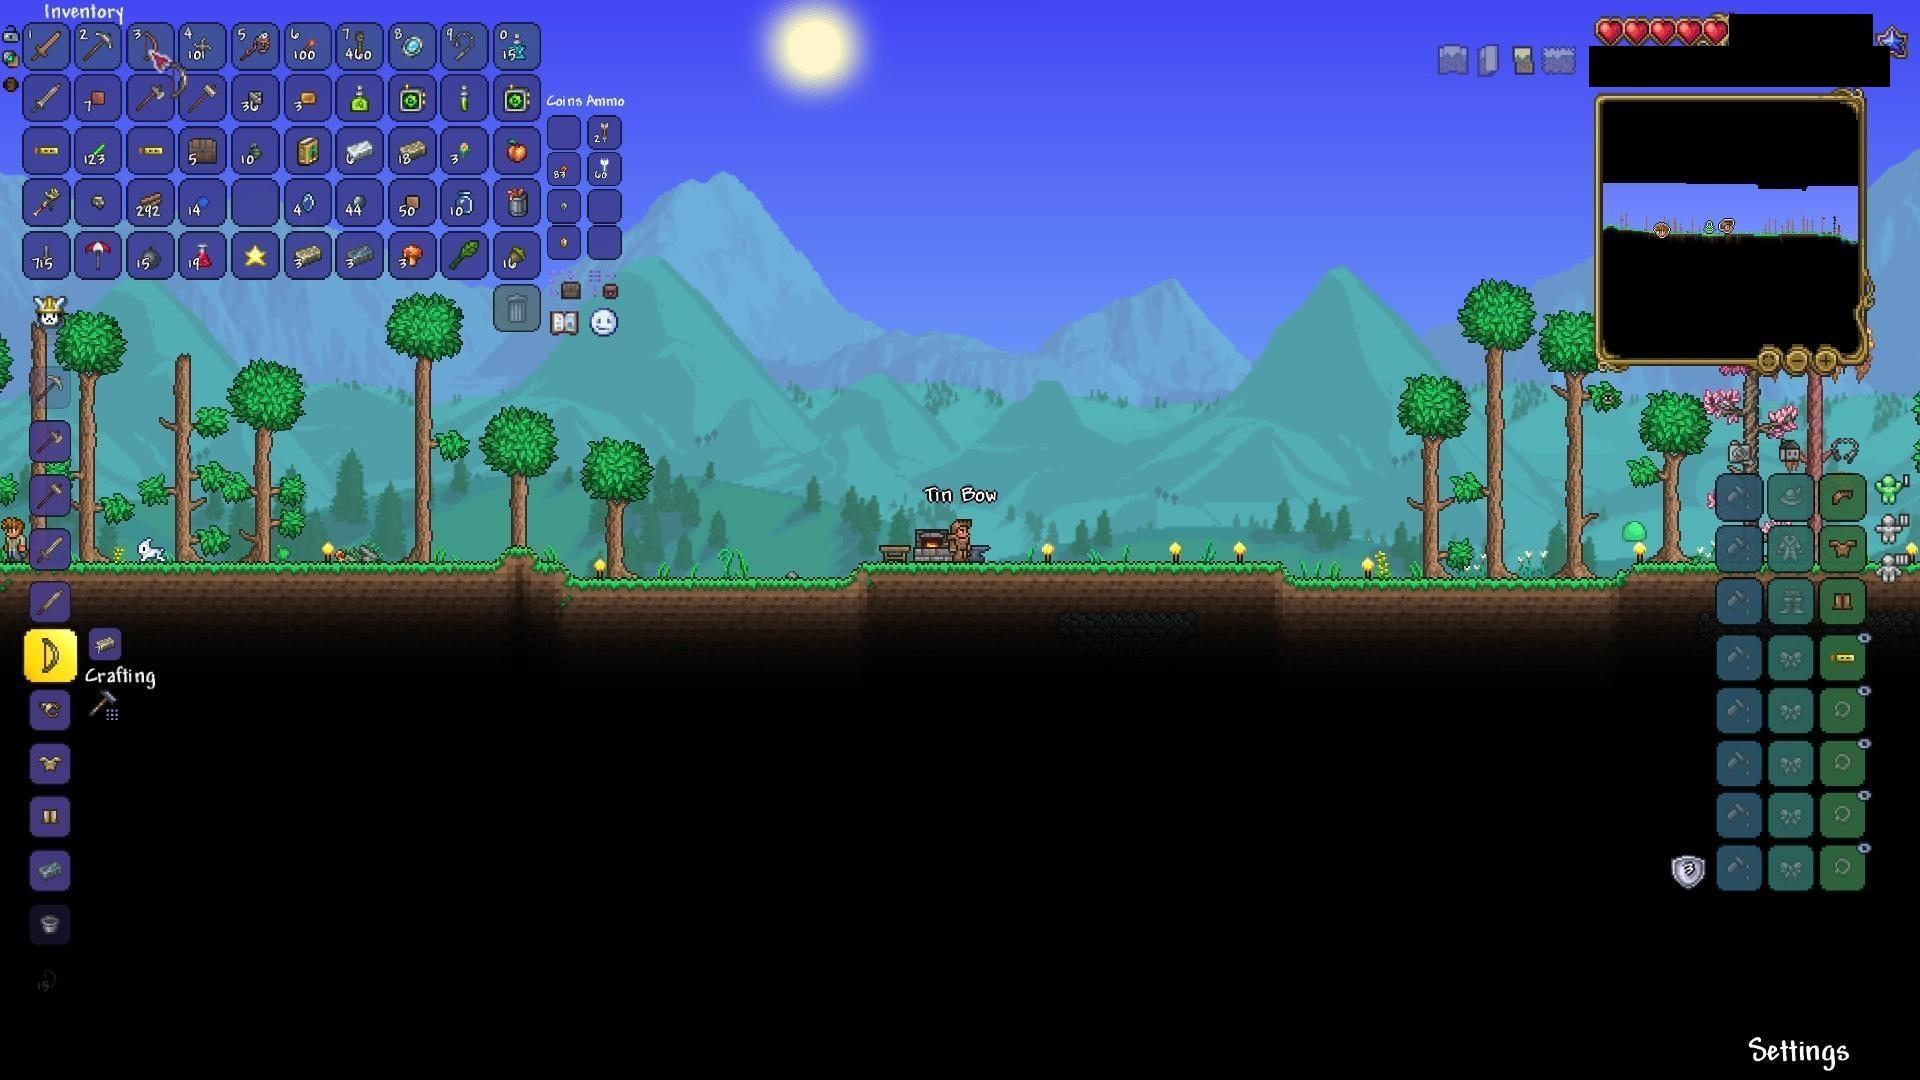dirt: (78, 545, 589, 597), (853, 554, 1284, 608), (568, 556, 870, 617), (1270, 559, 1627, 604), (1622, 553, 1724, 589)
heart: (1702, 17, 1733, 51), (1593, 16, 1626, 46), (1676, 15, 1704, 50), (1650, 16, 1676, 49), (1625, 15, 1651, 44)
tree: (378, 284, 455, 567), (1453, 268, 1523, 575), (233, 335, 314, 558), (1390, 367, 1466, 576), (73, 305, 135, 562), (152, 332, 214, 564), (1631, 382, 1704, 564), (574, 418, 644, 587), (1547, 310, 1589, 589), (481, 396, 542, 549)
